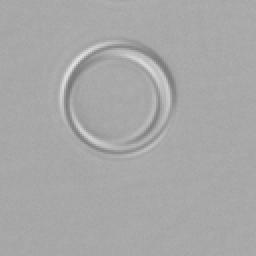picoshell: (58, 40, 174, 156)
